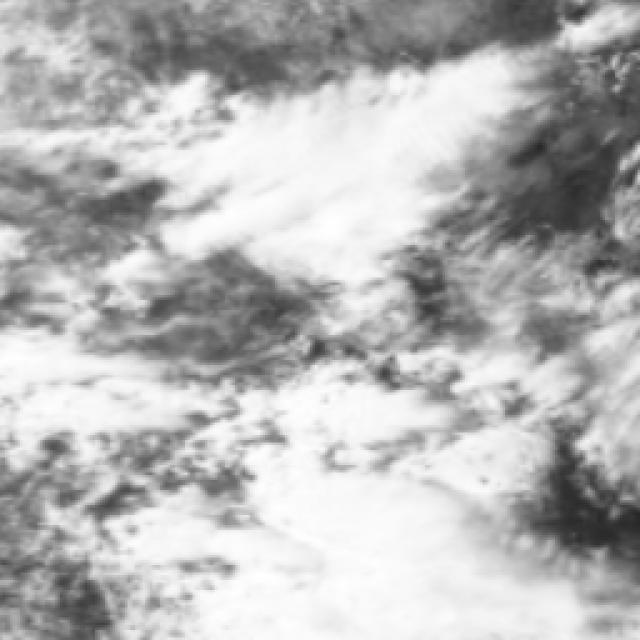CB: (295, 491, 423, 640)
